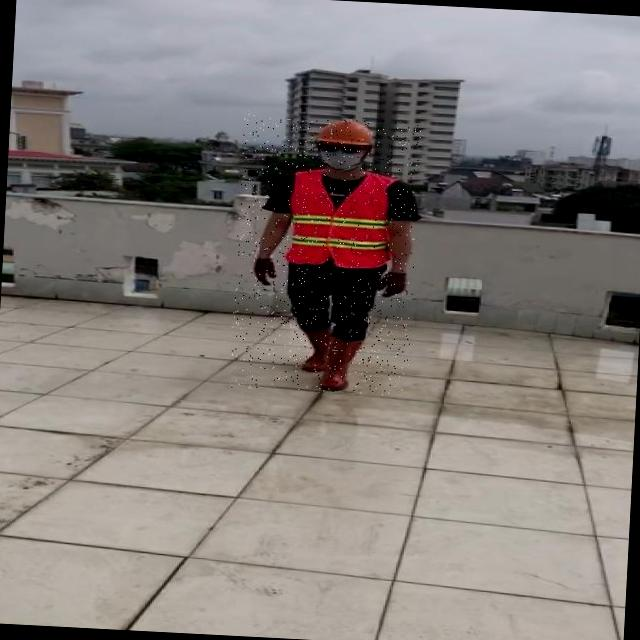boots: (318, 334, 369, 392), (303, 327, 334, 372)
helmet: (318, 116, 377, 147)
vest: (282, 169, 399, 270)
